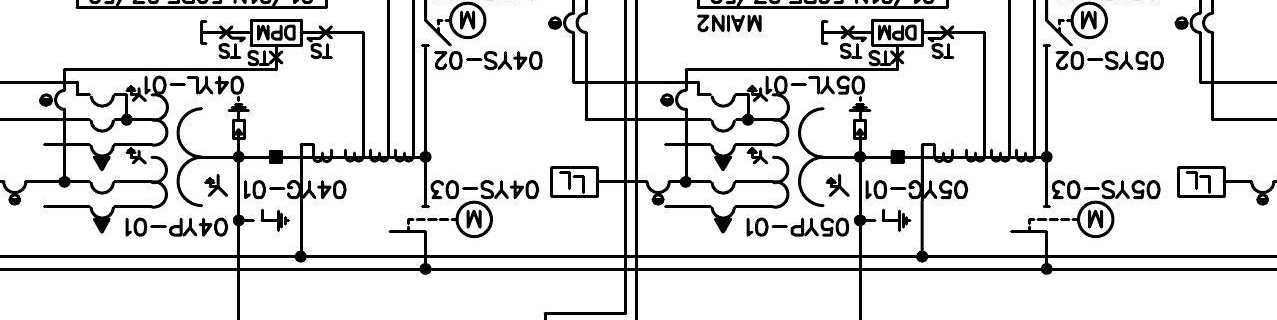115_1way_ds_w_motor: (1009, 199, 1116, 238), (388, 199, 495, 238), (1042, 1, 1110, 48), (421, 1, 488, 48)
115_gs: (872, 208, 913, 233), (251, 208, 292, 233)
115_la: (848, 95, 873, 140), (227, 95, 251, 140)
115_vt_3p: (88, 84, 230, 235), (710, 84, 851, 235)
DPM: (250, 18, 304, 47), (872, 18, 925, 47)
LL: (550, 165, 600, 199), (1176, 166, 1226, 199)
